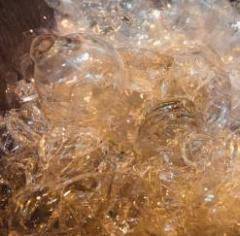glass: (29, 33, 127, 121)
